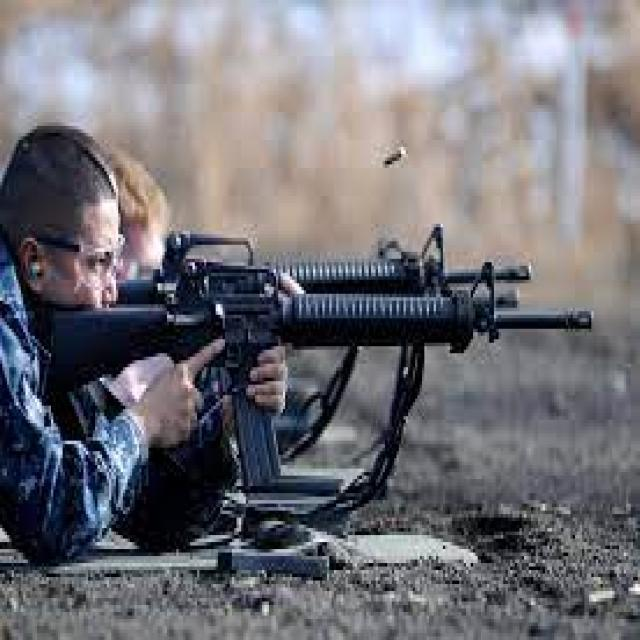m16: (43, 216, 609, 504)
